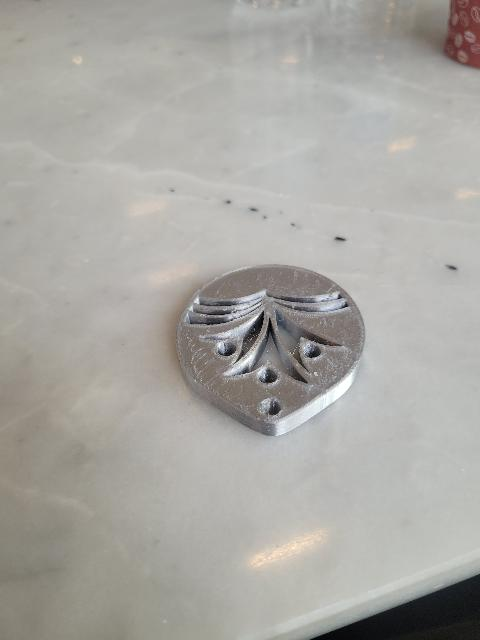Metal: (171, 260, 375, 440)
